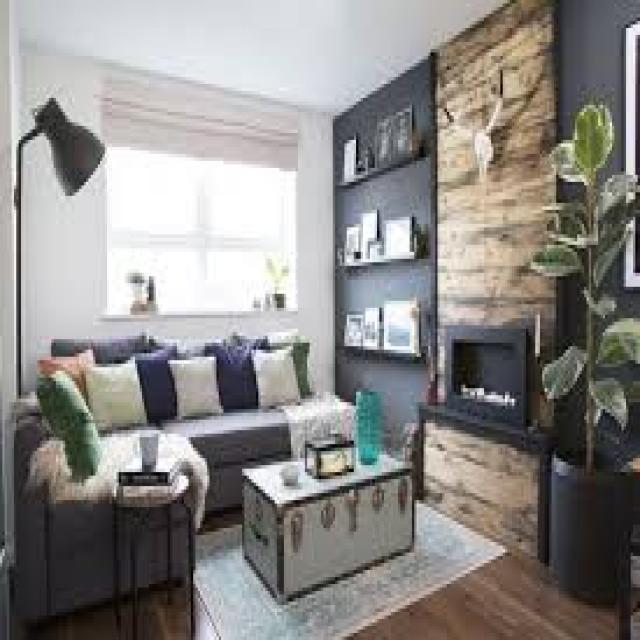Lamp: (8, 104, 104, 607)
Sofa: (19, 313, 360, 595)
Table: (238, 448, 417, 590)
